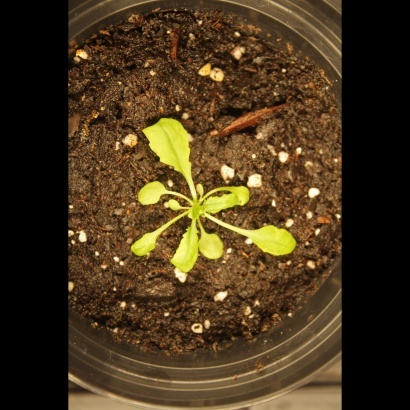leaf: (139, 107, 196, 180), (246, 219, 306, 259), (126, 174, 175, 209), (122, 225, 166, 263), (172, 223, 204, 272), (194, 231, 234, 264), (200, 191, 240, 217), (230, 182, 257, 209), (164, 195, 187, 218)
